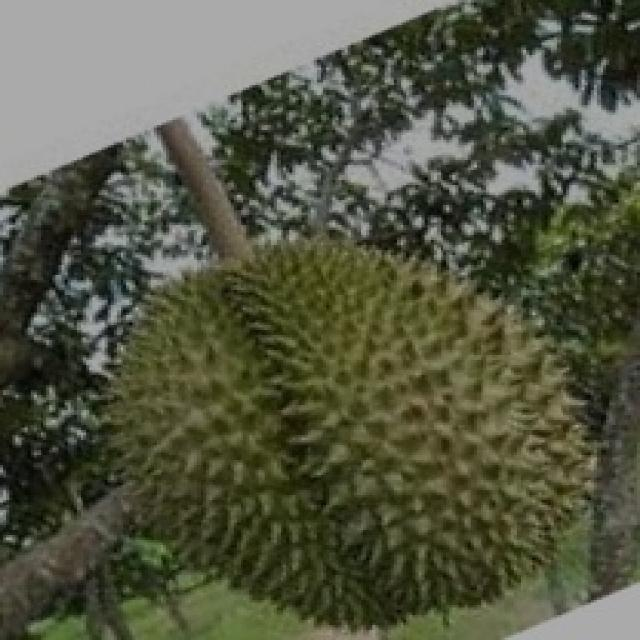fruit: (255, 230, 640, 638), (33, 202, 384, 638)
